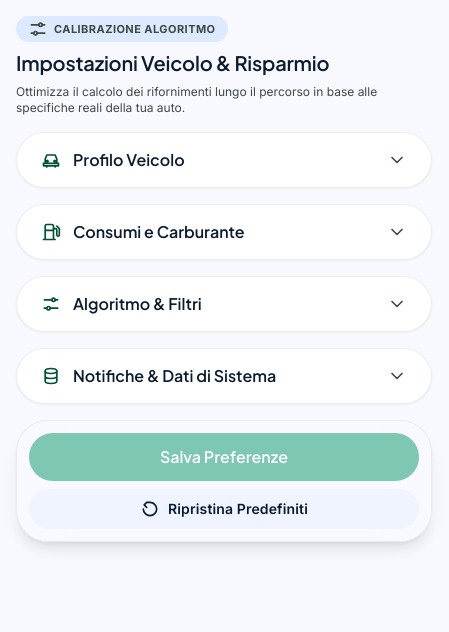
Scenario: SettingsScreen — consumi e carburante (slider come da mockup 5) › slider 3–40 km/L con passo 0,1, pill del valore corrente e tre tacche «8 Sport», «15 Medio», «30 Eco»
Click the button "Consumi e Carburante" at [224, 232], box x1=17 y1=205 x2=431 y2=259
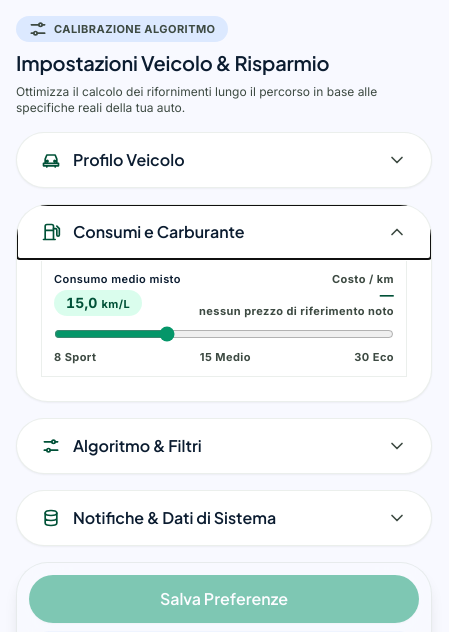
Expected: the slider labelled "Consumo medio misto" holds "15", x1=54 y1=326 x2=394 y2=342
Expected: the element with test id "consumption-pill" reads "15,0 km/L", x1=54 y1=290 x2=142 y2=316
